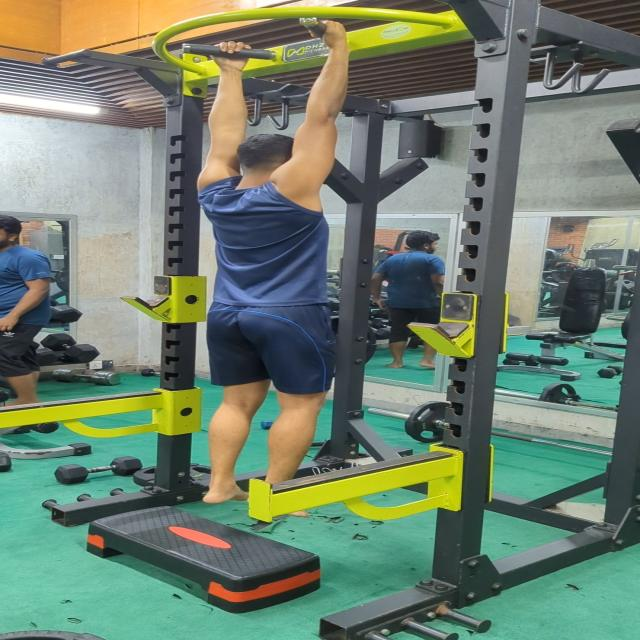Normal_PullUps: (183, 19, 356, 519)
